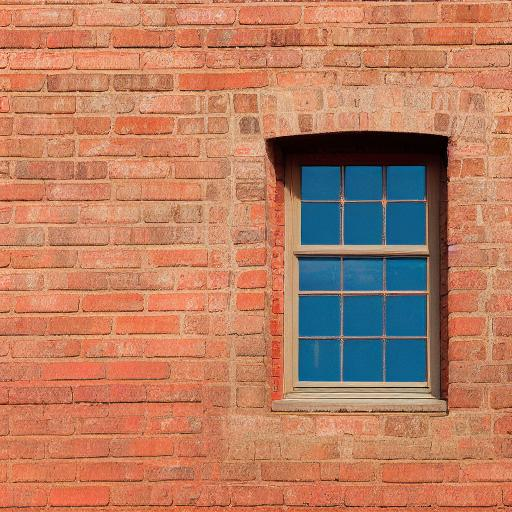Window: (266, 129, 461, 417)
